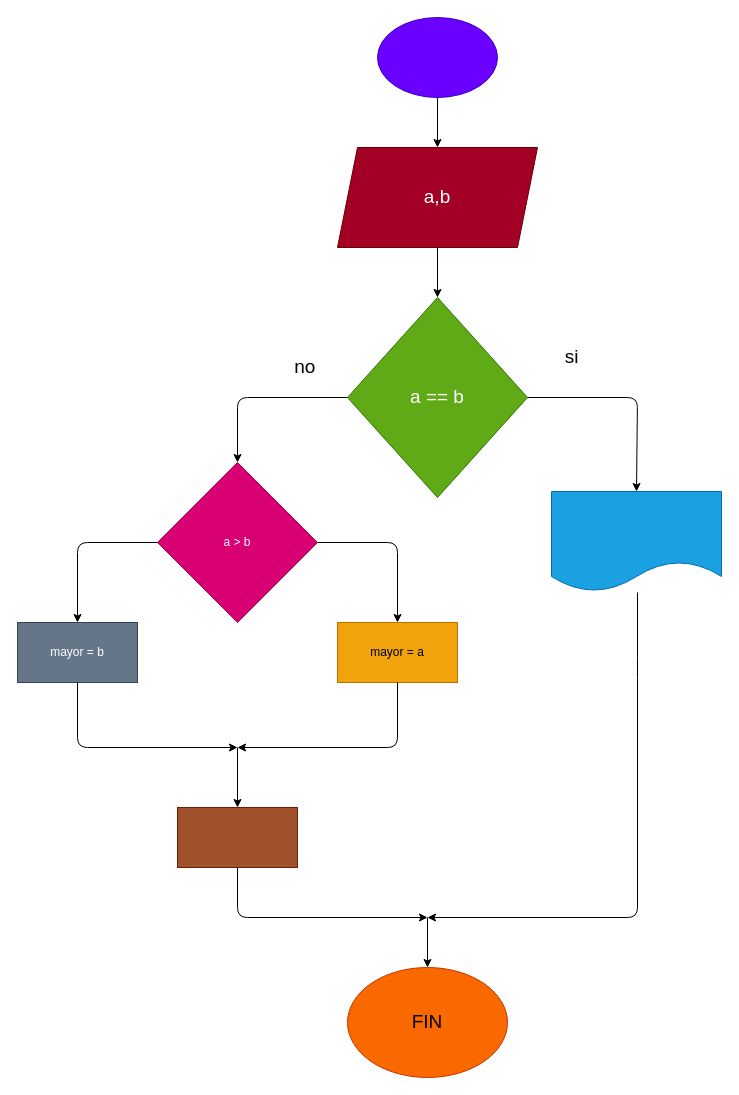
Image size: 739x1095. Some labels were removed from this diagram. Each missing label, with the centre of its shape:
"iguales": point 636,541
INICIO: point 437,57
mayor: point 237,837
